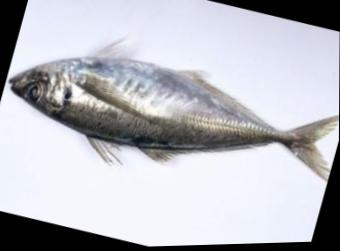fish: (9, 34, 339, 184)
